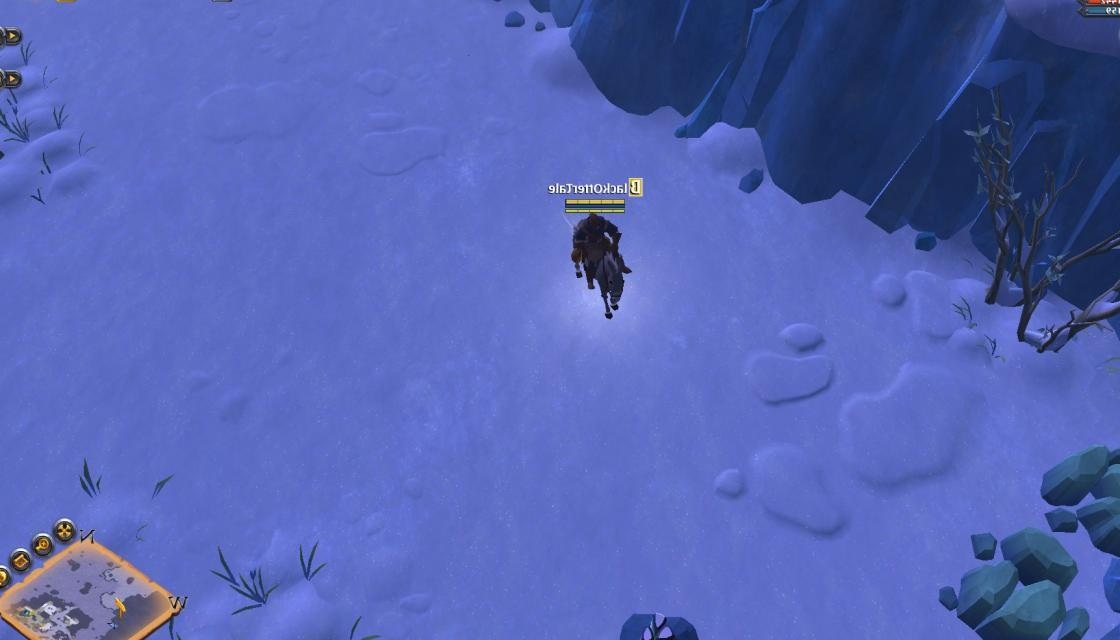sandstone: (940, 530, 1095, 640), (1041, 440, 1120, 560)
